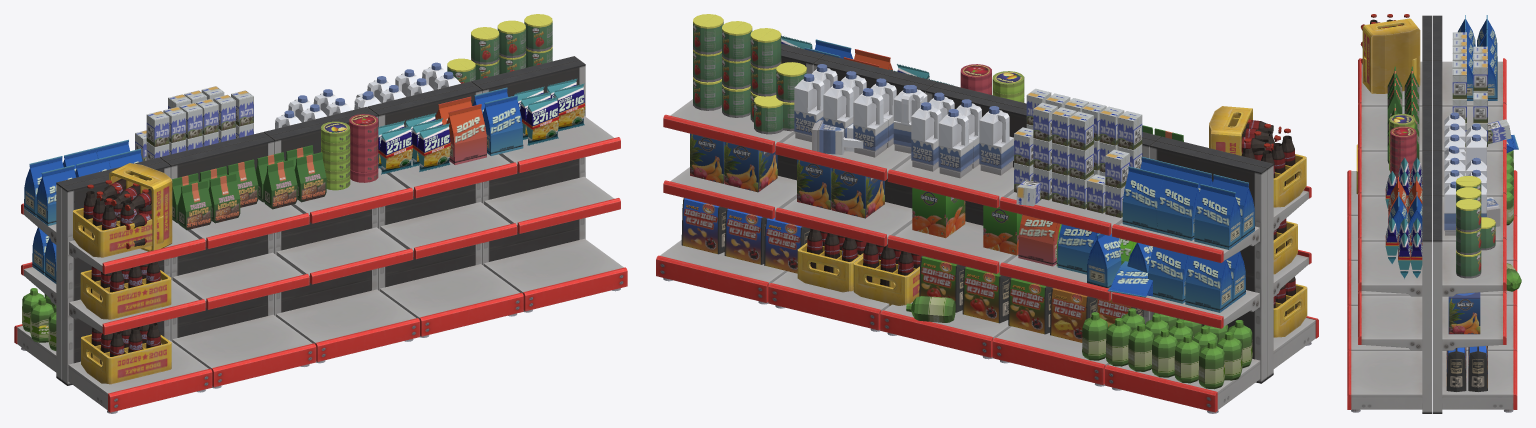
The model's file is Market_03.obj.
The picture shows the model from 3 angles, left to right: view 1: azimuth 30°, elevation 25°; view 2: azimuth 150°, elevation 25°; view 3: azimuth 270°, elevation 25°; orthographic projection. The views are drawn at different scales.
Bounding box in the file's own units: 5.02 × 2.1 × 1.64.
Materials: 169 (169 with a texture image).
